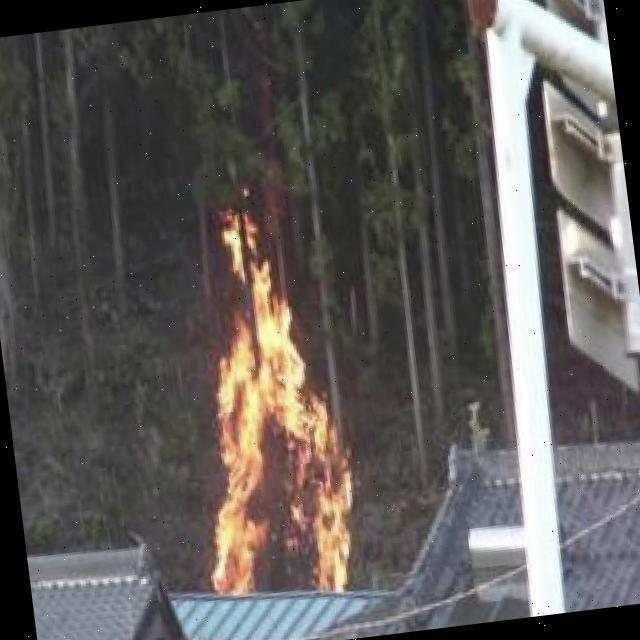fire: (168, 214, 370, 608)
